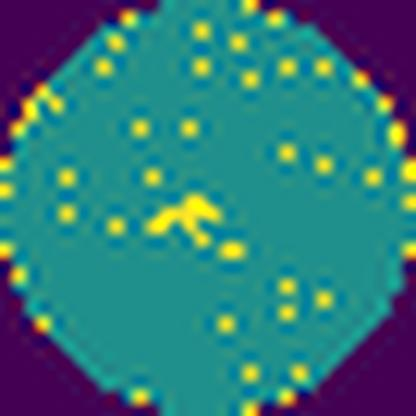Center: (140, 189, 223, 253)
